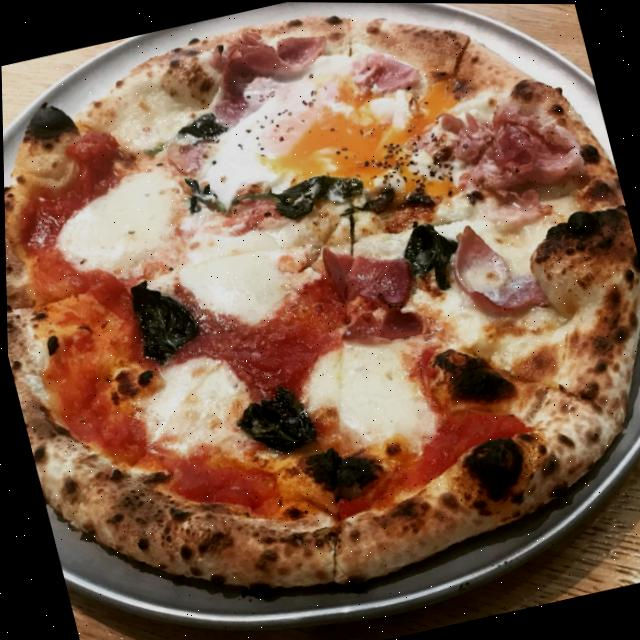basil: (232, 150, 374, 244), (104, 255, 210, 367), (220, 366, 326, 467), (390, 199, 472, 300), (170, 98, 237, 150), (172, 165, 224, 218)
pizza: (0, 0, 640, 640)
